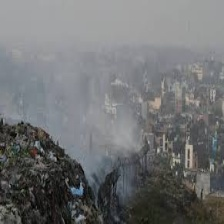smoke: (91, 113, 155, 163)
